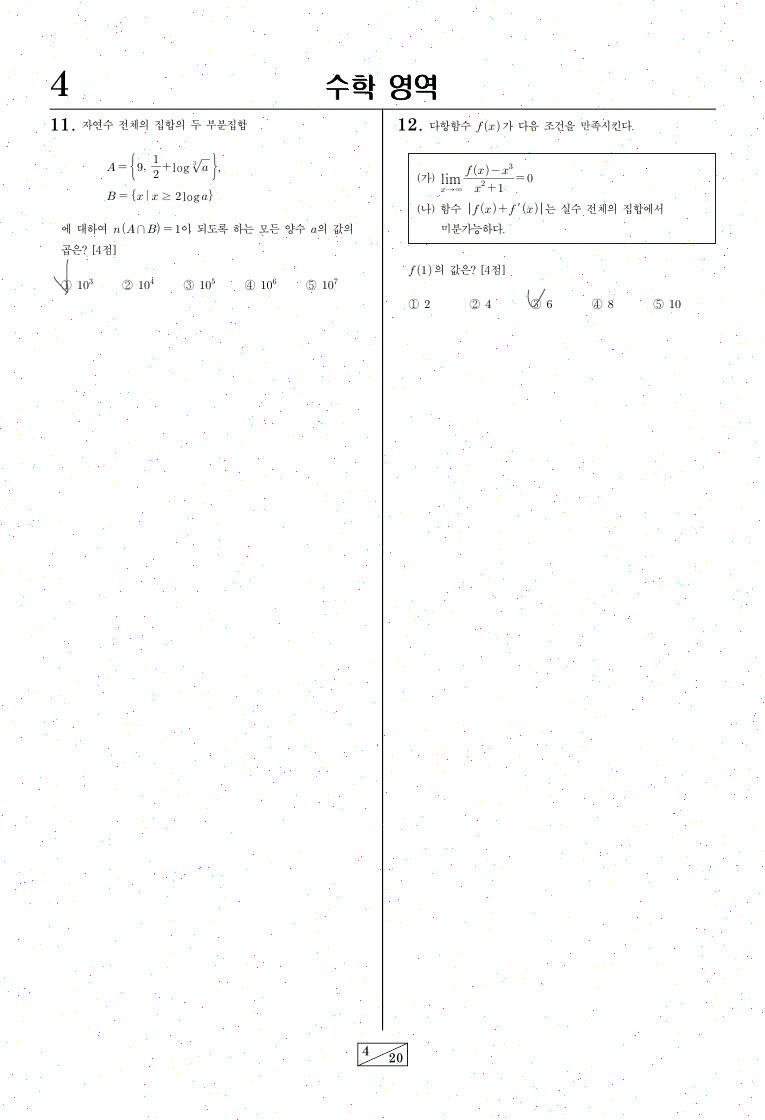question: (386, 109, 727, 334), (33, 108, 370, 309)
